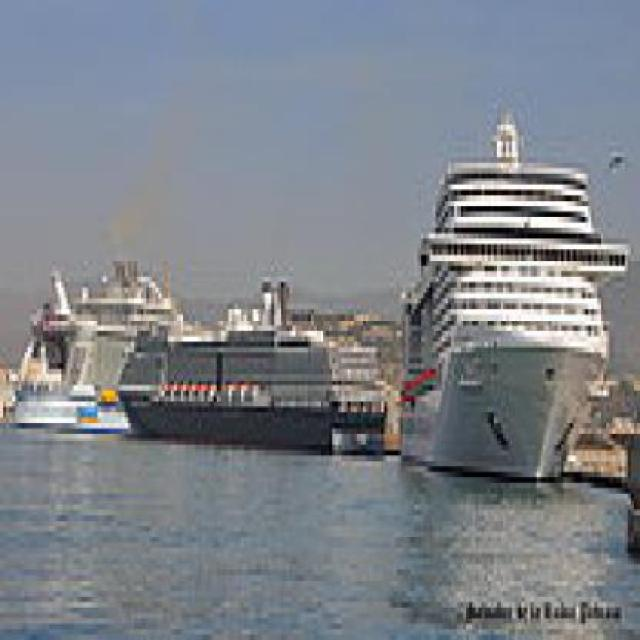cruise: (397, 93, 639, 500), (117, 300, 388, 474)
